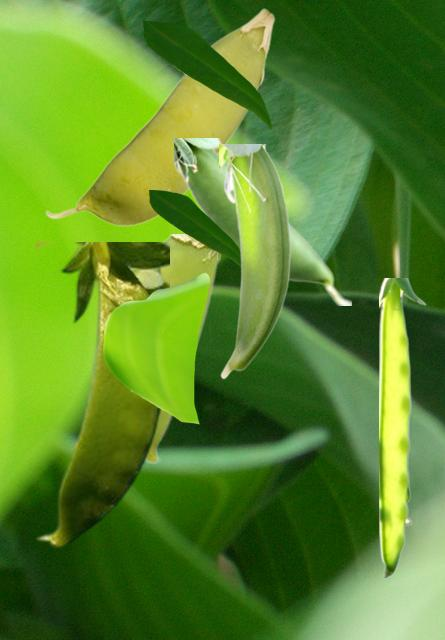pea: (45, 8, 274, 225), (36, 242, 168, 547), (174, 138, 350, 304), (219, 144, 292, 378), (147, 234, 219, 462), (379, 278, 425, 576)
